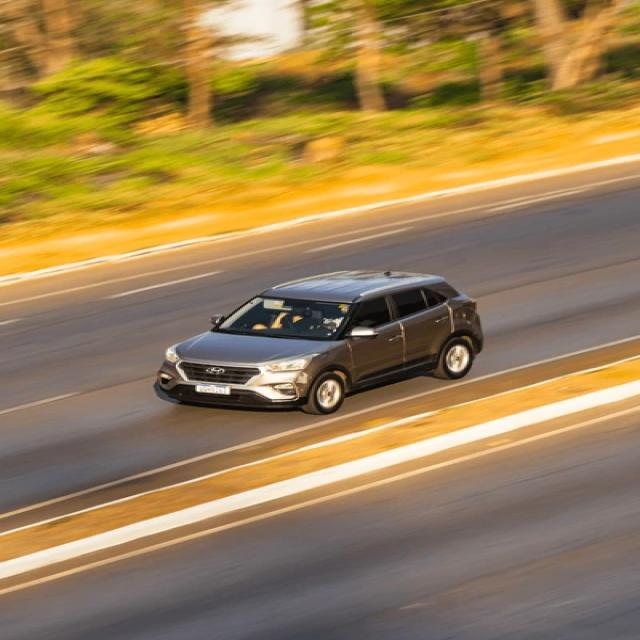hyundai: (202, 363, 231, 378)
